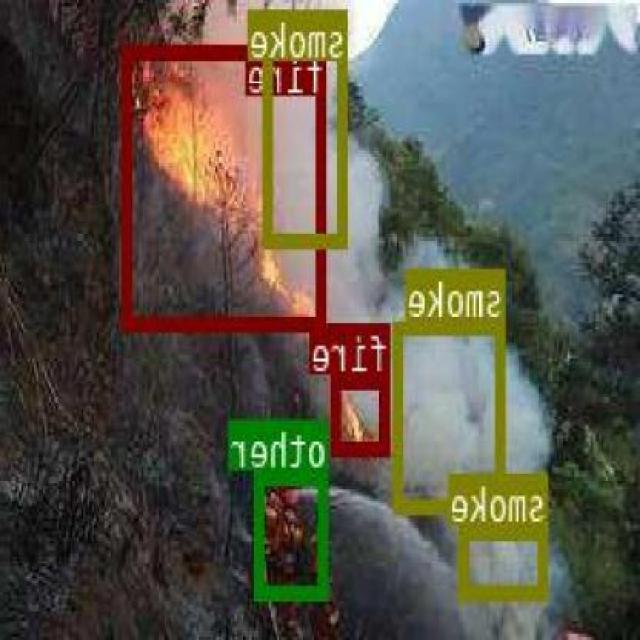Fire: (126, 41, 328, 328), (333, 372, 392, 454)
Smoke: (394, 318, 508, 510), (265, 6, 350, 246), (462, 523, 548, 599)
